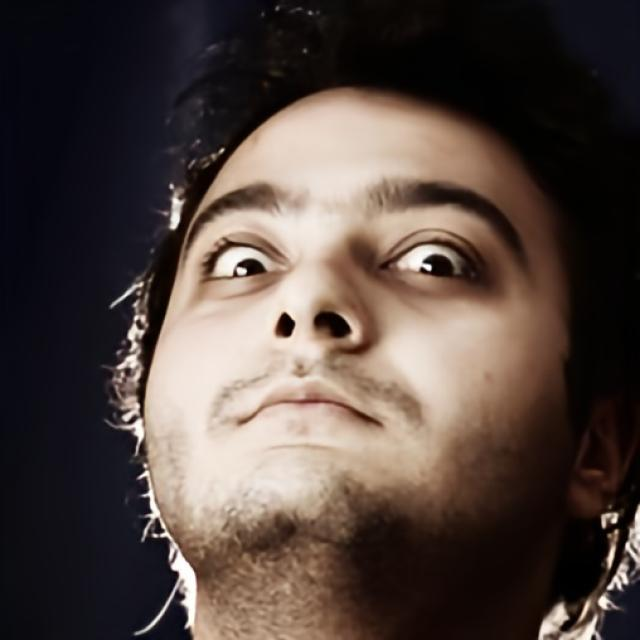surprise: (142, 87, 574, 578)
